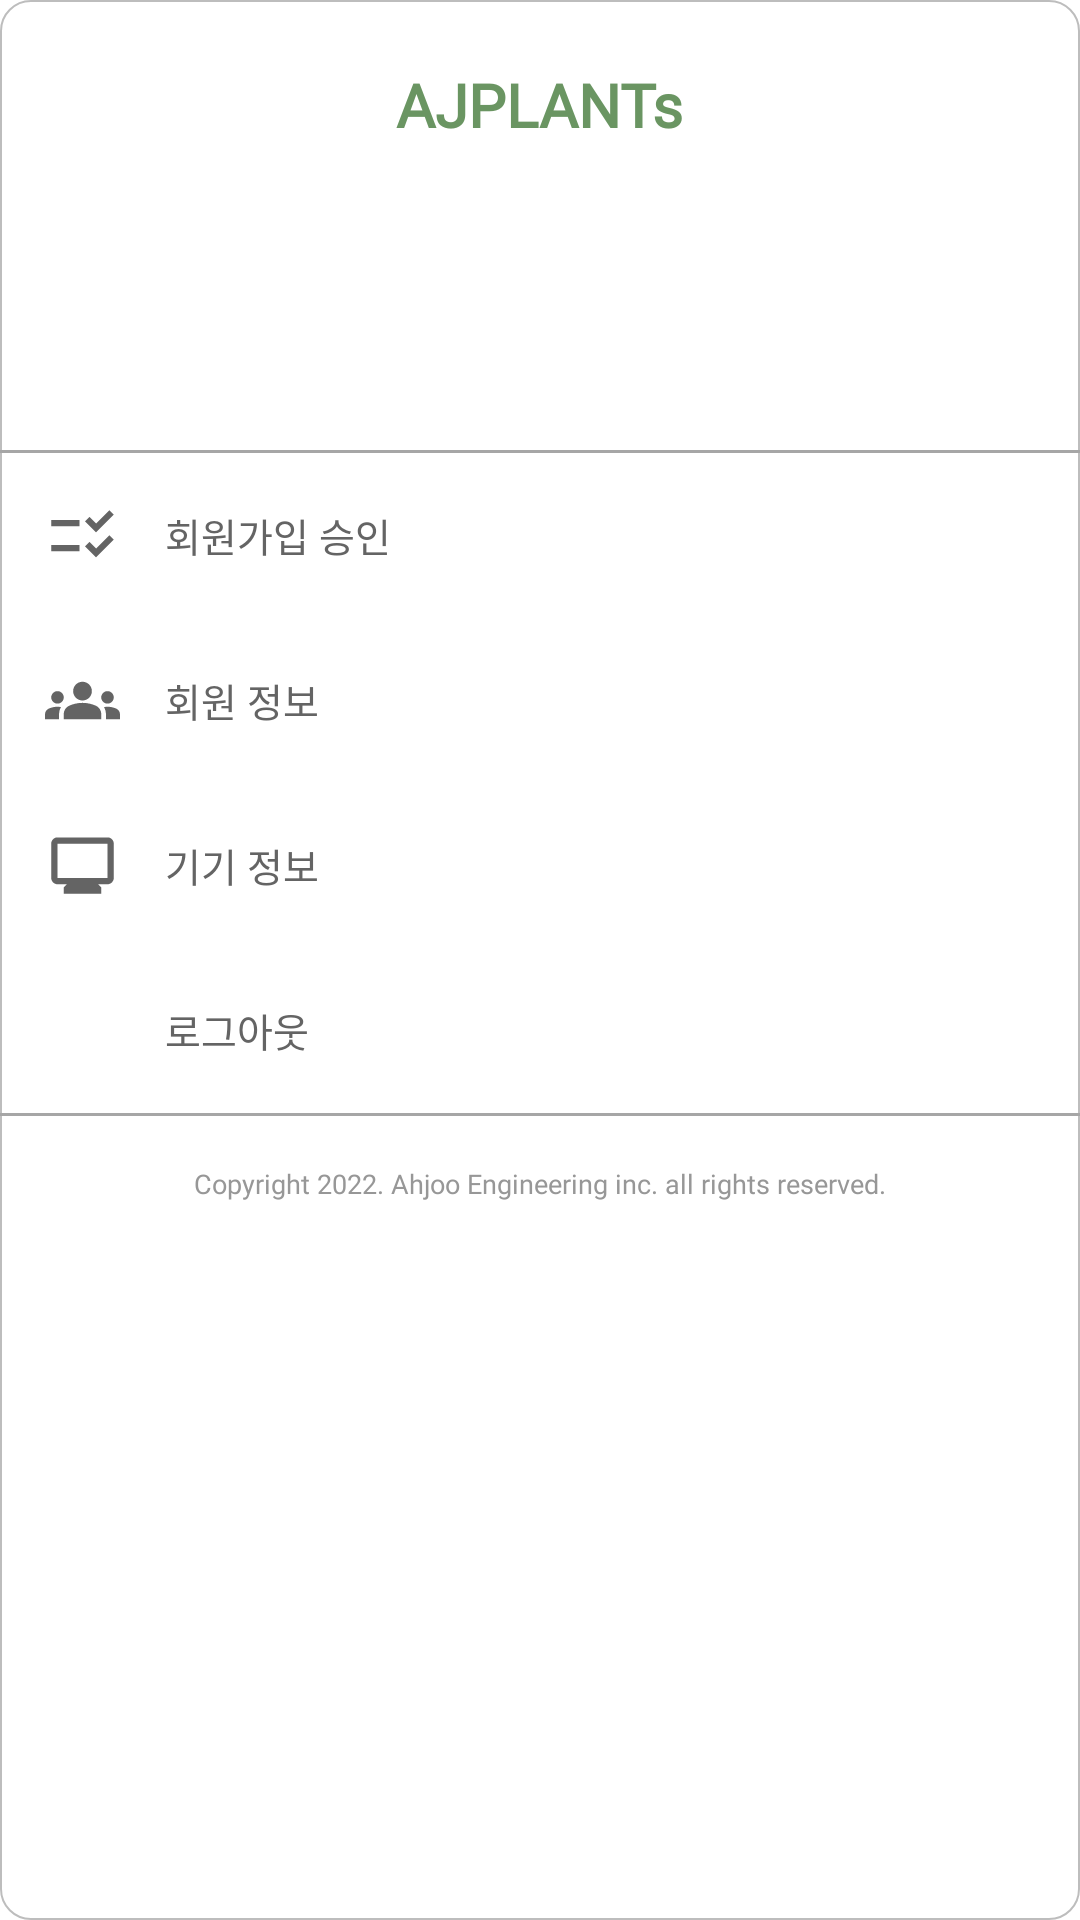

Named icons in this screenshot (1080w x 1920h) and their centers, (x,y):
master menu approve: (82,533)
master menu device: (82,865)
master menu user: (82,700)
